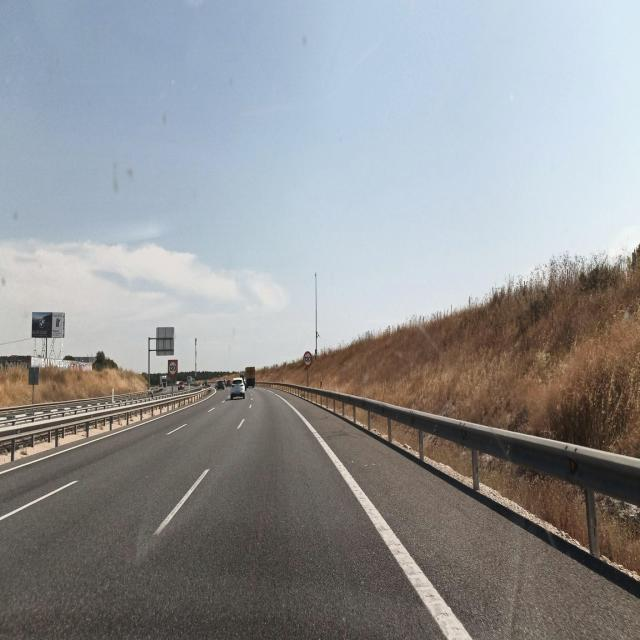car: (230, 377, 245, 400), (216, 378, 225, 391)
